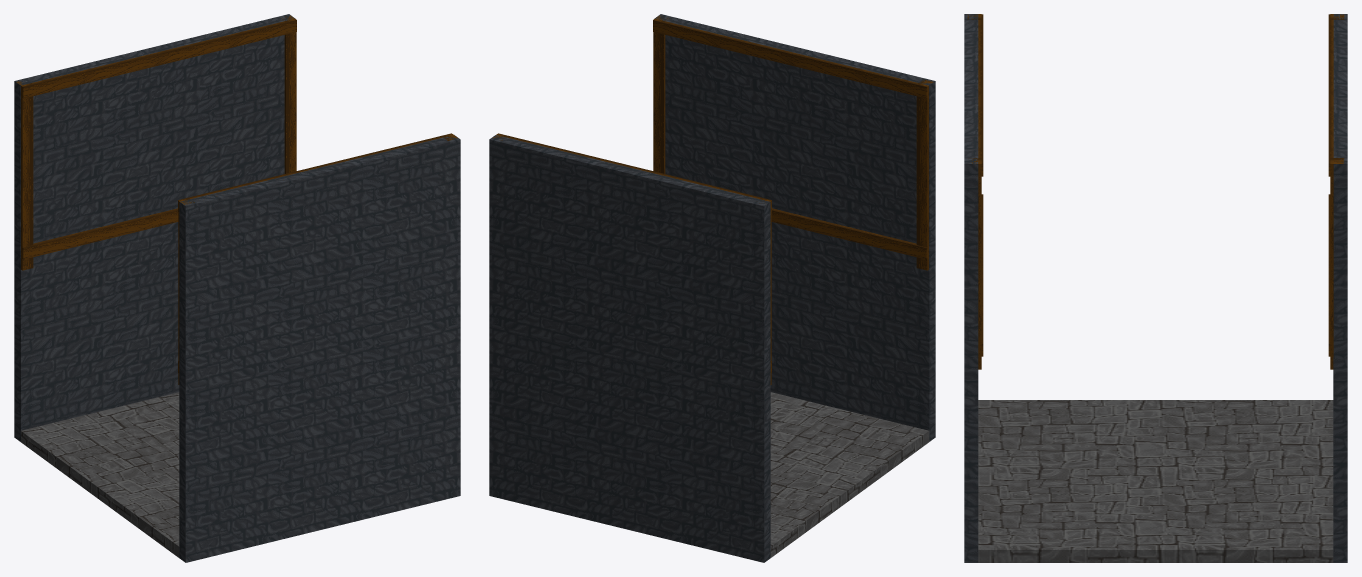
Rendered from Flur Schlucht V2.fbx.
3 renders of one model, left to right at view 1: azimuth 30°, elevation 25°; view 2: azimuth 150°, elevation 25°; view 3: azimuth 270°, elevation 25°, orthographic. The views are drawn at different scales.
Visible parts, largest first — view 1: Flur Schlucht V2.003, Flur Schlucht V2.004, Flur Schlucht V2.002, Flur Schlucht V2.001, Flur Schlucht V2; view 2: Flur Schlucht V2.004, Flur Schlucht V2.003, Flur Schlucht V2.001, Flur Schlucht V2.002, Flur Schlucht V2; view 3: Flur Schlucht V2, Flur Schlucht V2.004, Flur Schlucht V2.003, Flur Schlucht V2.002, Flur Schlucht V2.001.
Boxes of the visible parts, <box> form: Flur Schlucht V2.003: <box>178,133,460,390</box>; Flur Schlucht V2.004: <box>14,14,296,270</box>; Flur Schlucht V2.002: <box>179,323,460,562</box>; Flur Schlucht V2.001: <box>14,222,179,441</box>; Flur Schlucht V2: <box>21,392,179,557</box>; Flur Schlucht V2.004: <box>489,133,771,390</box>; Flur Schlucht V2.003: <box>653,14,935,270</box>; Flur Schlucht V2.001: <box>489,323,770,562</box>; Flur Schlucht V2.002: <box>770,222,935,441</box>; Flur Schlucht V2: <box>770,392,929,557</box>; Flur Schlucht V2: <box>978,400,1333,562</box>; Flur Schlucht V2.004: <box>1328,14,1347,369</box>; Flur Schlucht V2.003: <box>964,14,983,369</box>; Flur Schlucht V2.002: <box>964,357,978,562</box>; Flur Schlucht V2.001: <box>1333,357,1347,562</box>.
Bounding box in the file's own units: 500 × 540 × 620.
1 material, 1 textured.
